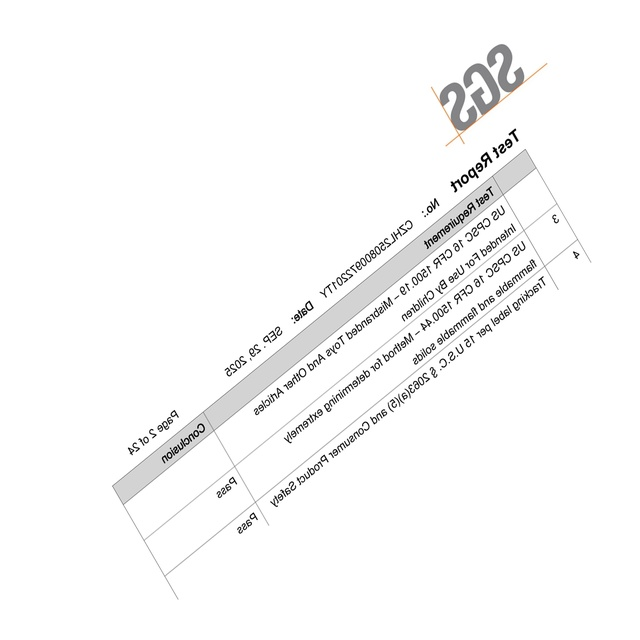sgs: (440, 42, 524, 130)
